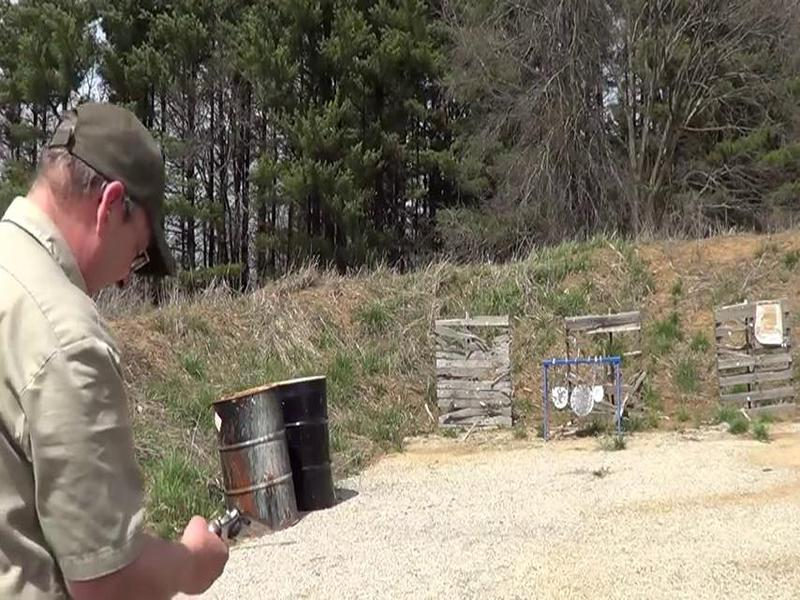Revolver: (167, 504, 246, 571)
